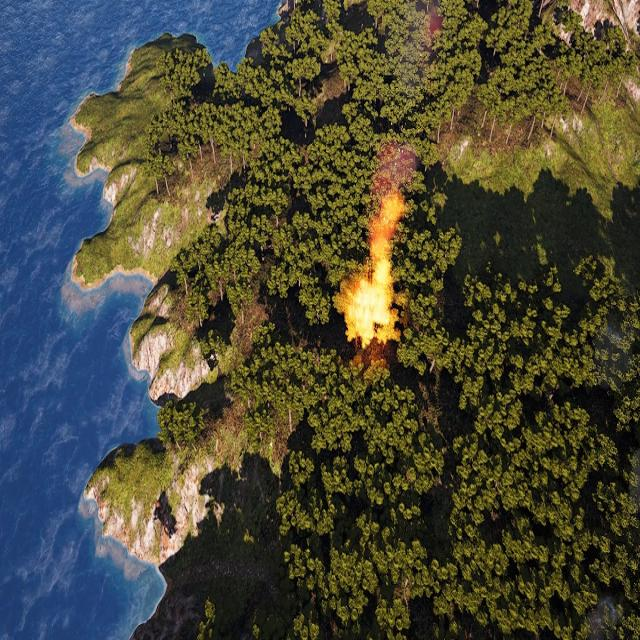fire: (345, 274, 398, 351)
smoke: (363, 136, 415, 270), (580, 593, 624, 640)
